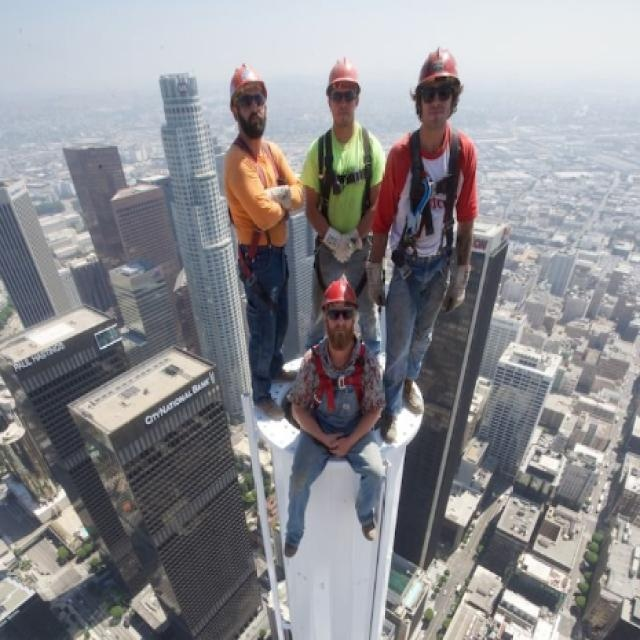Arnes_seguridad: (224, 130, 300, 286), (389, 125, 461, 274), (316, 123, 375, 254), (302, 341, 371, 427)
